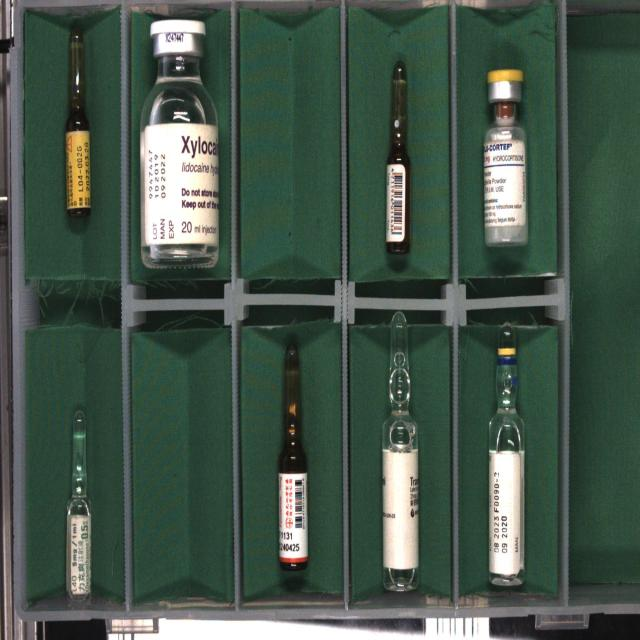Vials: (140, 19, 219, 269), (484, 69, 528, 246)
